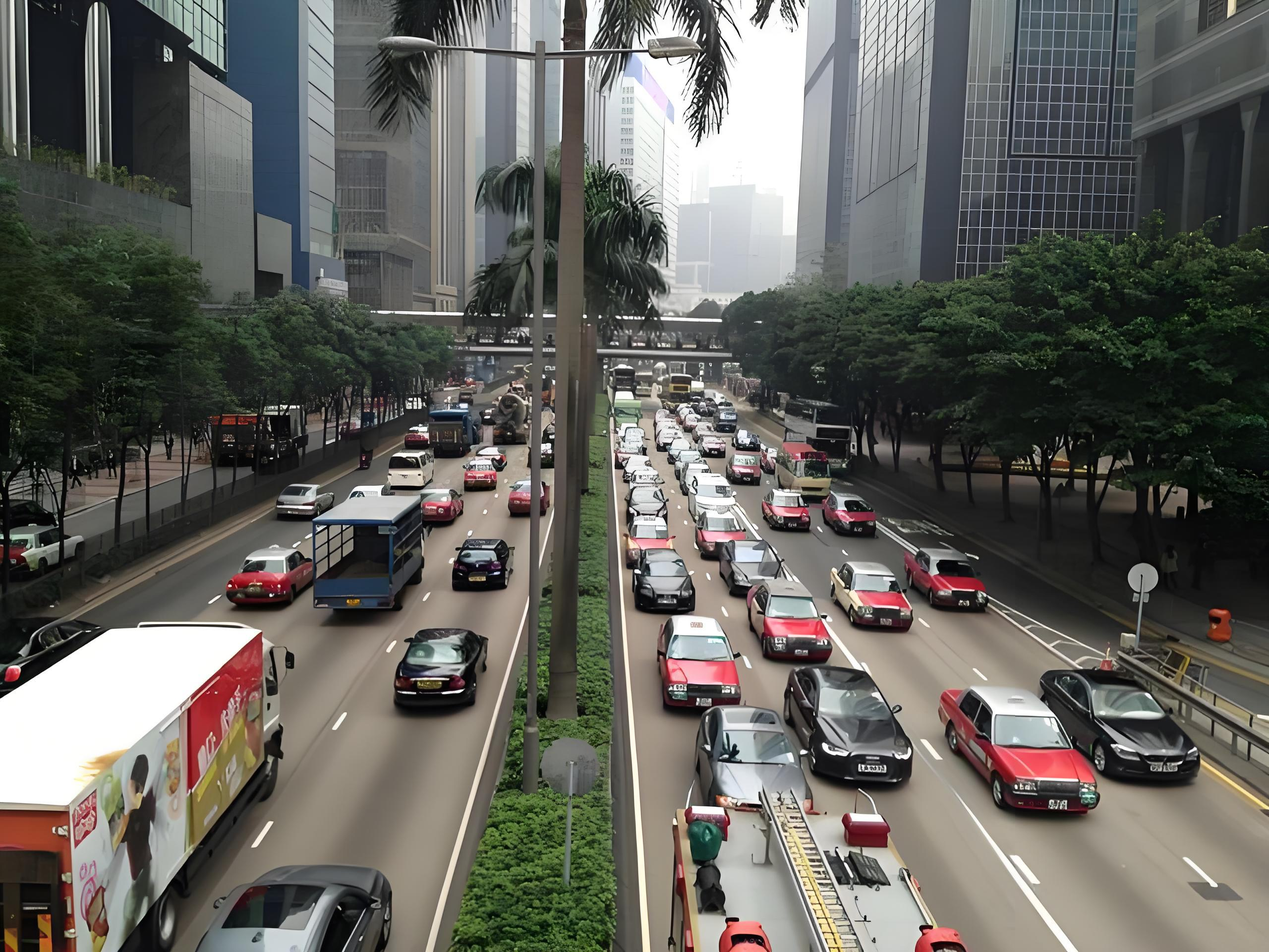bus: (778, 440, 832, 509)
car: (931, 671, 1096, 823), (1070, 650, 1205, 799), (689, 702, 805, 820), (386, 622, 502, 724), (785, 665, 897, 769), (743, 567, 845, 676), (645, 615, 751, 717), (821, 559, 923, 642), (629, 550, 711, 625), (232, 536, 316, 608), (904, 546, 983, 618), (815, 487, 898, 551), (449, 528, 518, 597), (617, 506, 690, 567), (623, 475, 680, 545), (669, 437, 726, 501), (716, 532, 781, 586), (615, 445, 670, 507), (696, 490, 745, 558), (272, 476, 335, 524), (419, 474, 474, 528), (381, 448, 438, 499), (721, 435, 767, 498), (758, 479, 810, 527), (505, 471, 545, 519), (465, 453, 502, 496), (406, 422, 439, 456), (622, 438, 646, 476)
truck: (5, 614, 288, 922), (310, 476, 438, 638), (423, 404, 479, 458), (493, 383, 534, 450)
